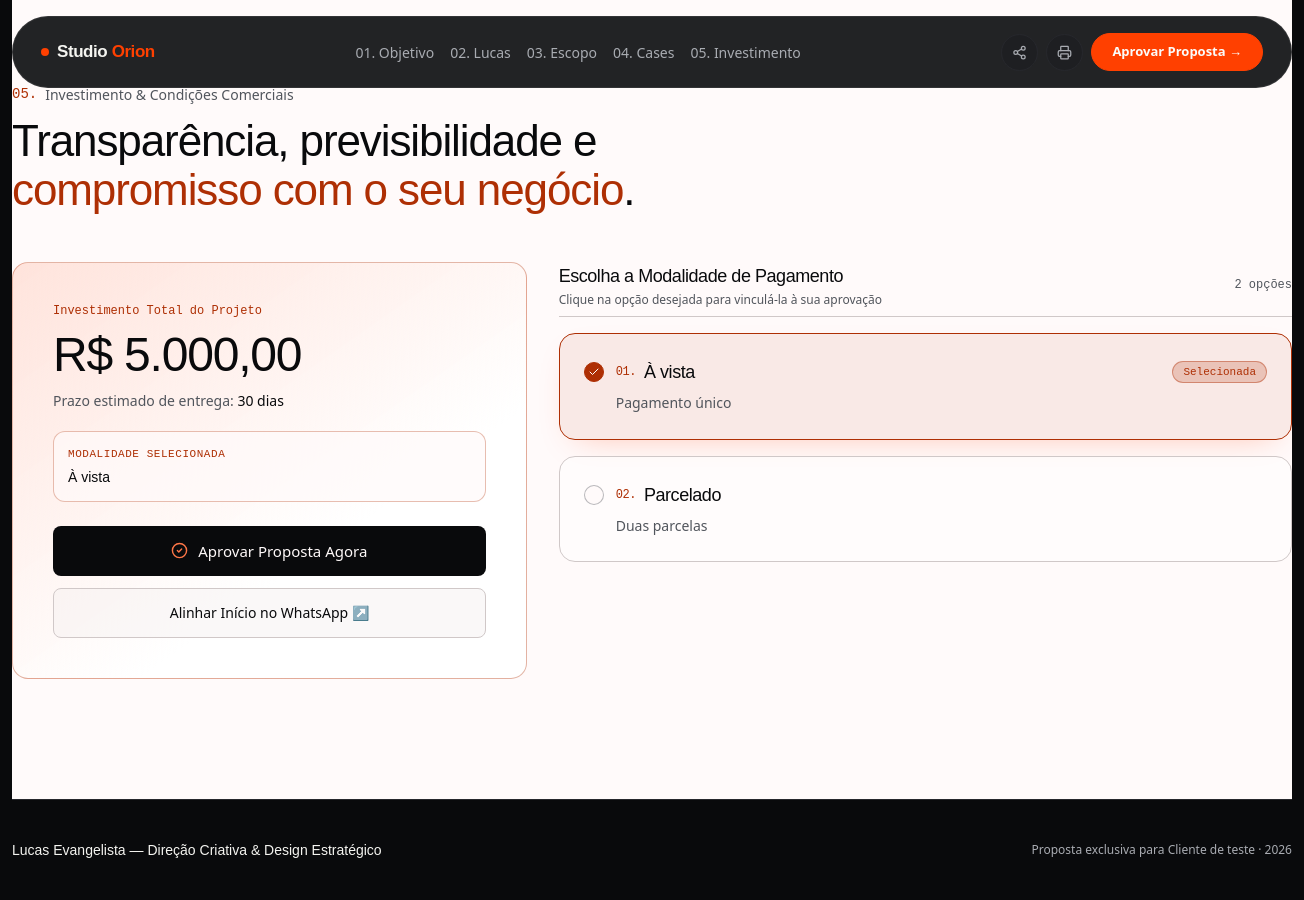
Test: preserves curated case order and payment selection without approving the proposal
(page scrolled)
Click the button "02. Parcelado Duas parcelas".
click(682, 494)  # box [559,456,1292,562]
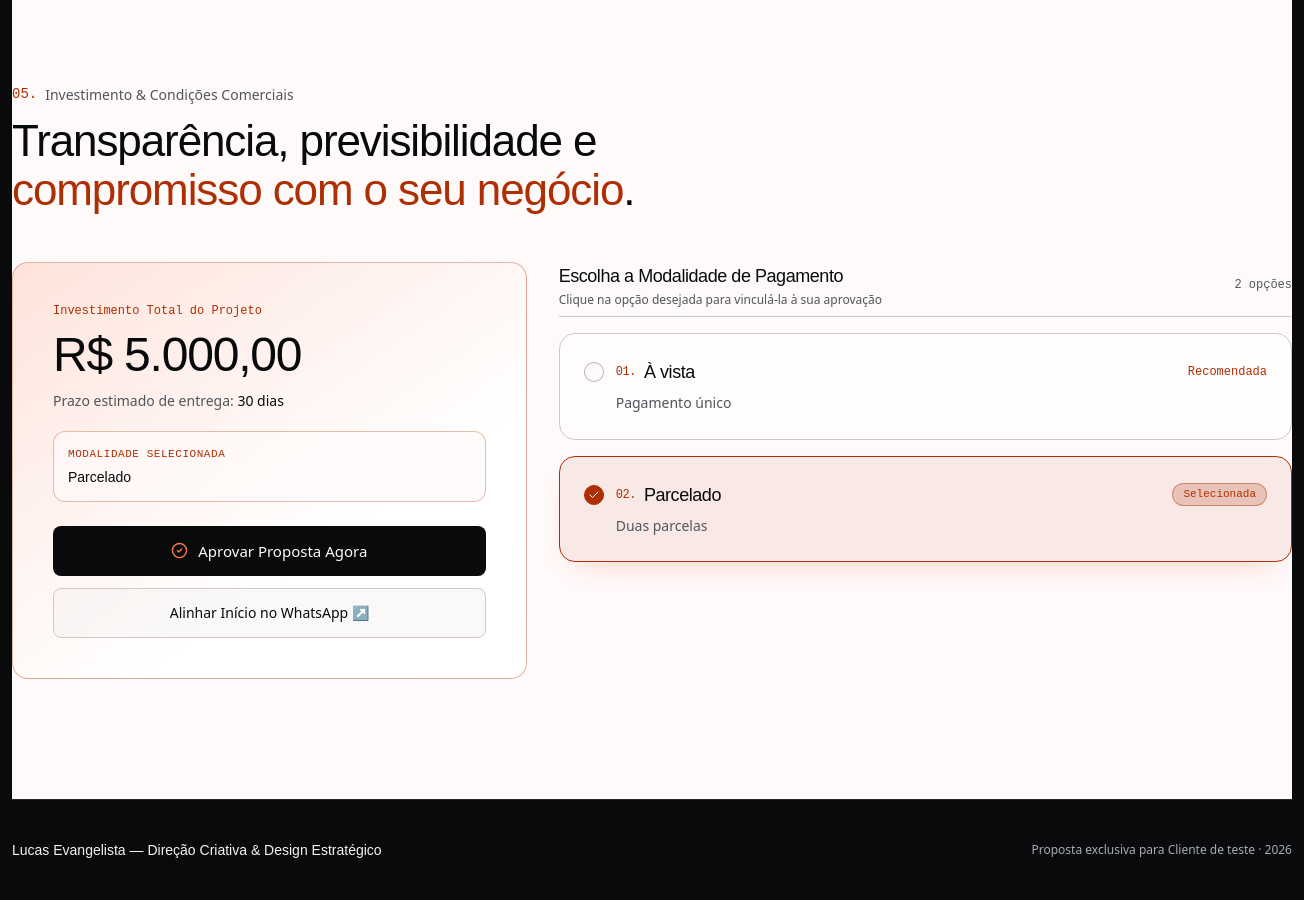
Expected: the button "02. Parcelado Selecionada Duas parcelas" is pressed, [559,456,1292,562]
Expected: the button "01. À vista Recomendada Pagamento único" is not pressed, [559,333,1292,440]
